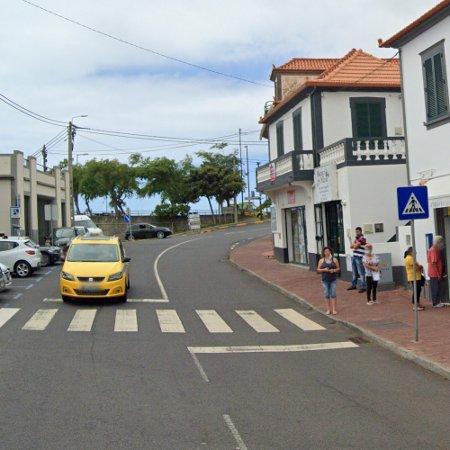taxis: (60, 237, 130, 302)
